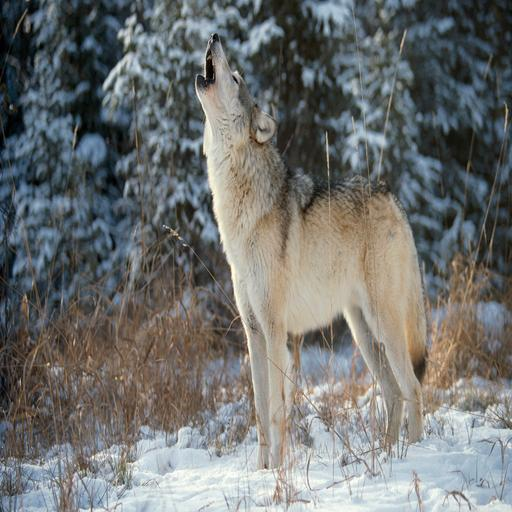Wolf: (189, 34, 439, 485)
